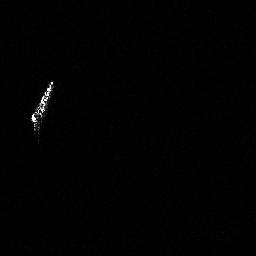ship: (28, 76, 58, 145)
